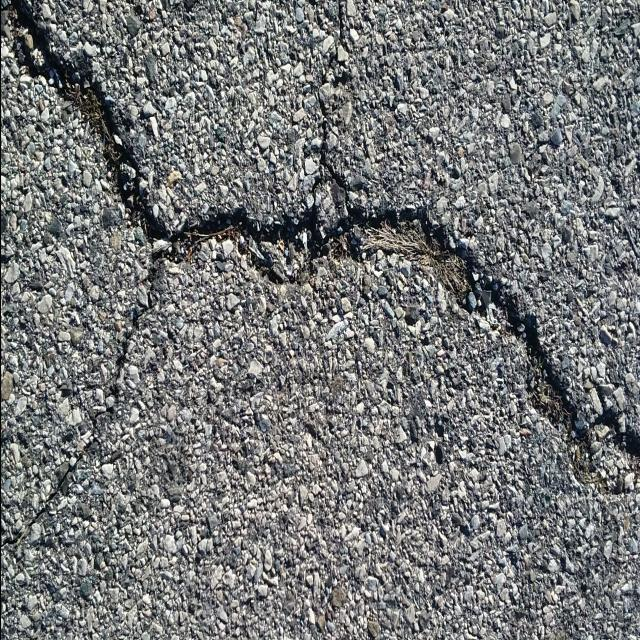Crack: (0, 0, 640, 556)
